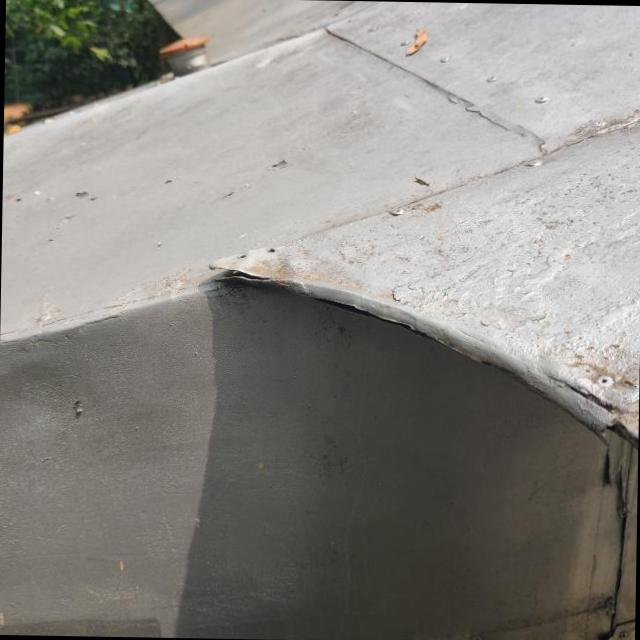Crack: (540, 380, 622, 421), (208, 255, 271, 282)
